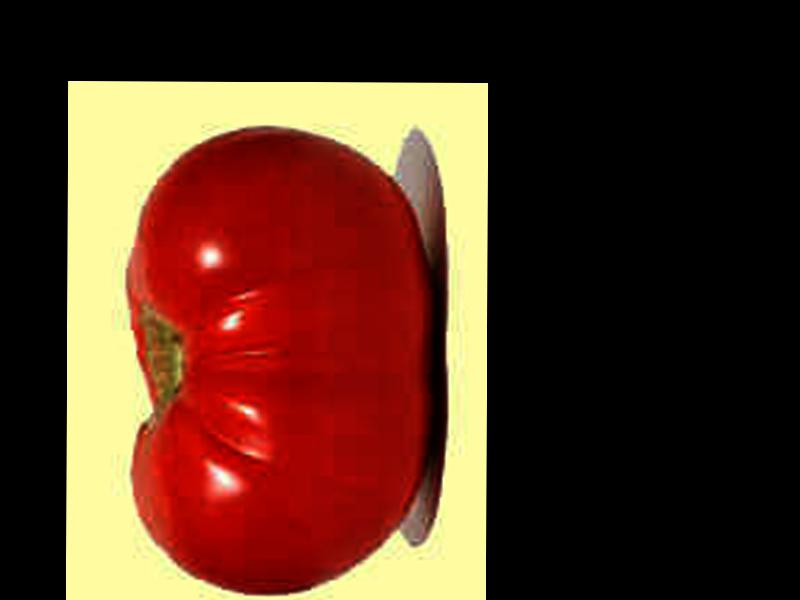Tomato: (124, 128, 432, 596)
